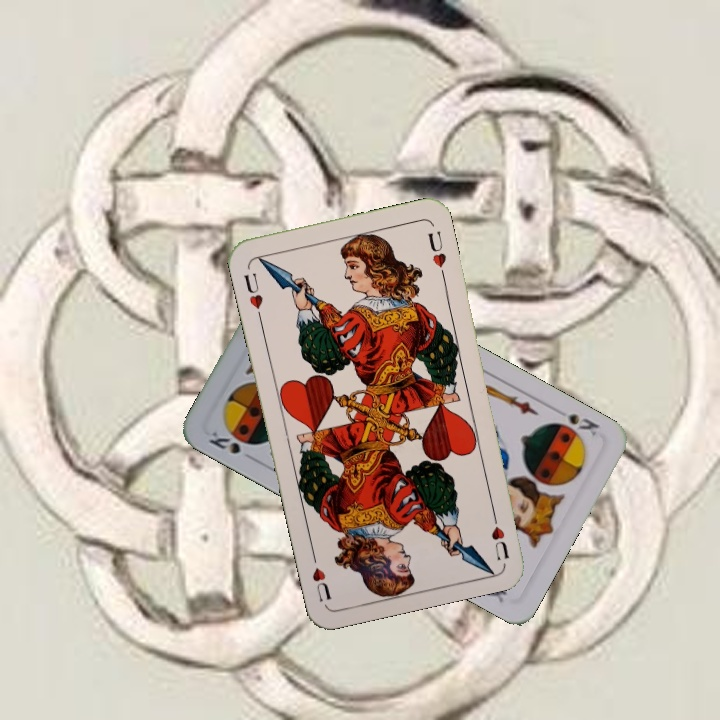HU: (239, 268, 266, 322), (487, 505, 512, 563)
SK: (549, 403, 602, 439), (204, 427, 243, 457)
